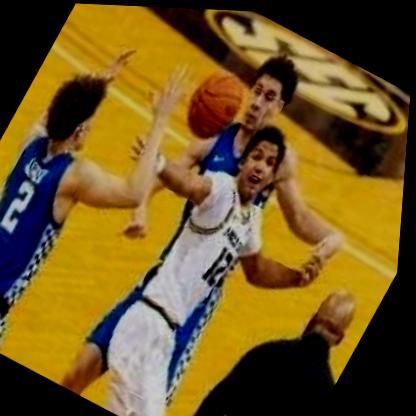basketball: (175, 59, 258, 149)
